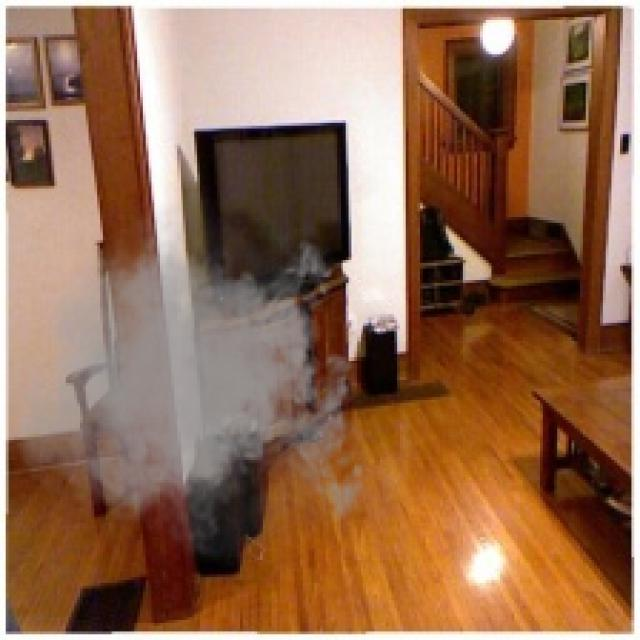smoke: (12, 183, 374, 577)
